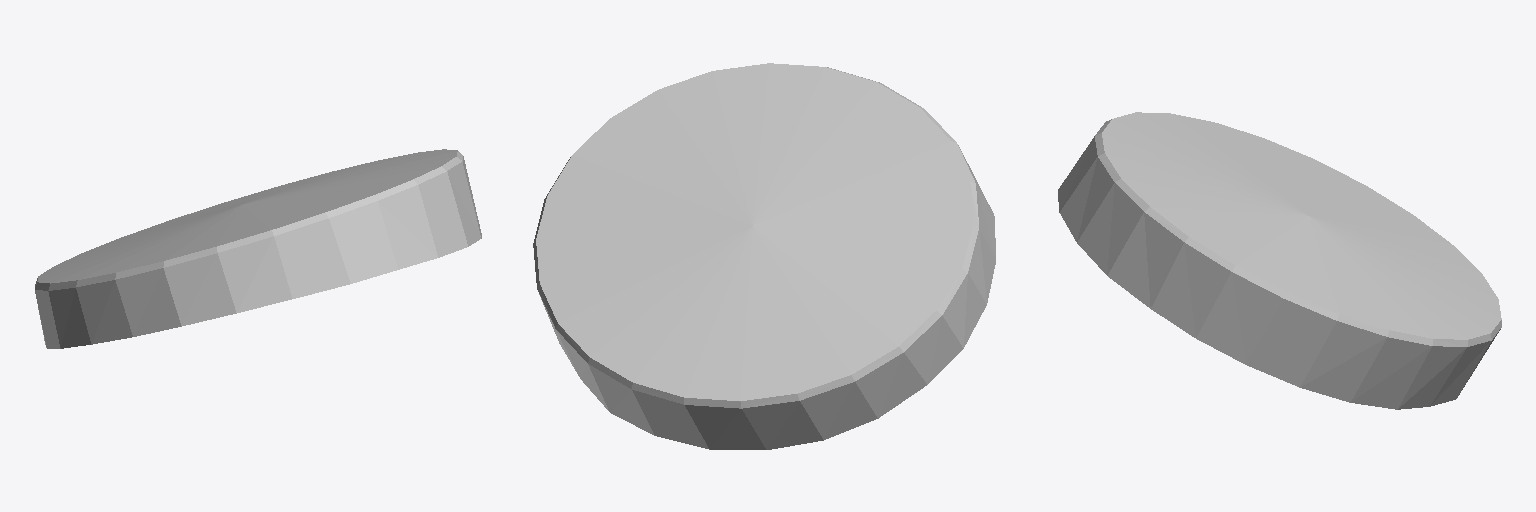
Rendered from right_b_button.obj.
The picture shows the model from 3 angles: view 1: azimuth 30°, elevation 25°; view 2: azimuth 150°, elevation 25°; view 3: azimuth 270°, elevation 25°; orthographic projection.
Visible parts, largest first — view 1: right_b_button; view 2: right_b_button; view 3: right_b_button.
Boxes of the visible parts, box(x1,y1,x2,y2) form: right_b_button: box(35, 149, 481, 348); right_b_button: box(533, 63, 995, 449); right_b_button: box(1058, 112, 1501, 409).
Size of the model in its own units: 0.0108 by 0.0062 by 0.0106.